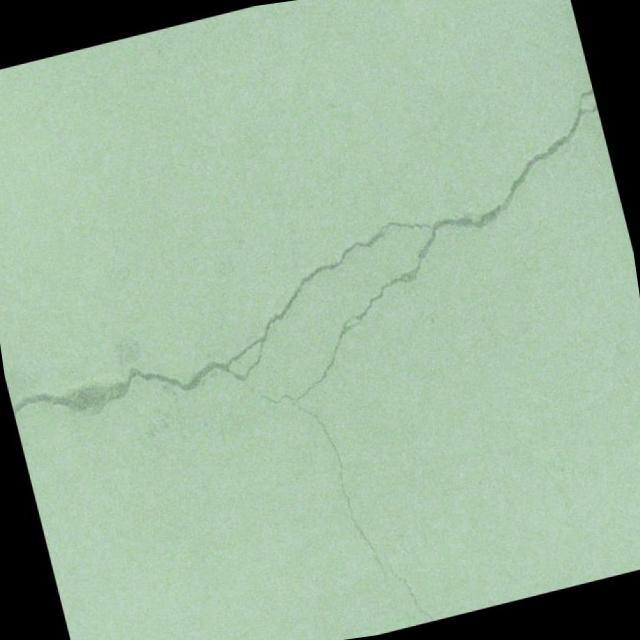crack: (0, 85, 640, 640), (378, 542, 434, 631)
